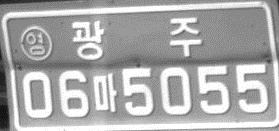0: (158, 66, 192, 115), (21, 70, 53, 120)
5: (234, 63, 269, 114), (196, 65, 231, 115), (120, 67, 154, 116)
6: (58, 69, 89, 118)
광주_D: (71, 17, 202, 61)
마: (92, 72, 117, 112)
영: (19, 25, 52, 61)
